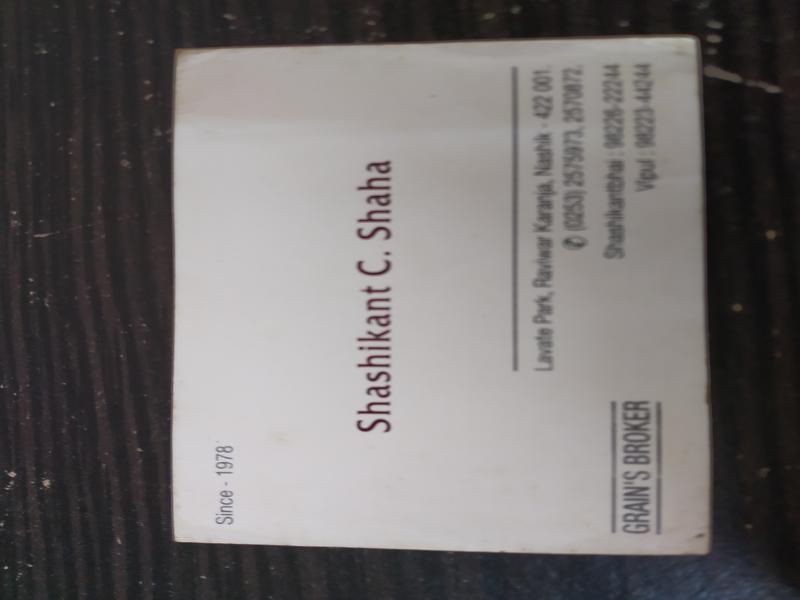card: (170, 39, 709, 553)
